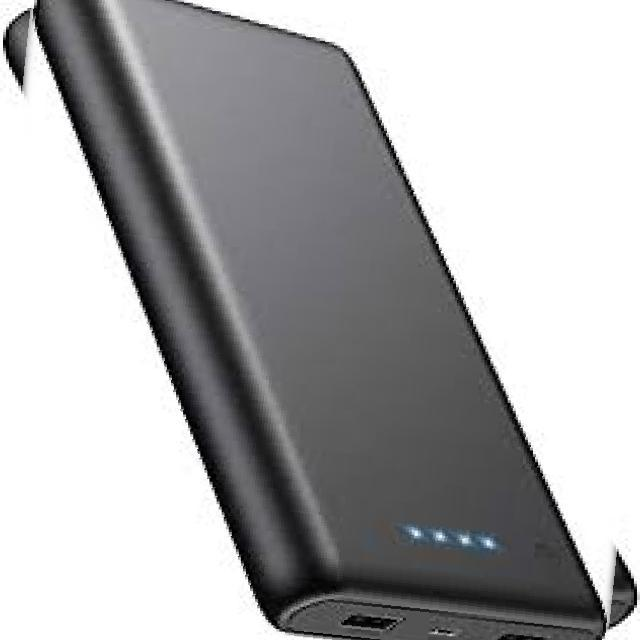Battery: (35, 0, 605, 640)
